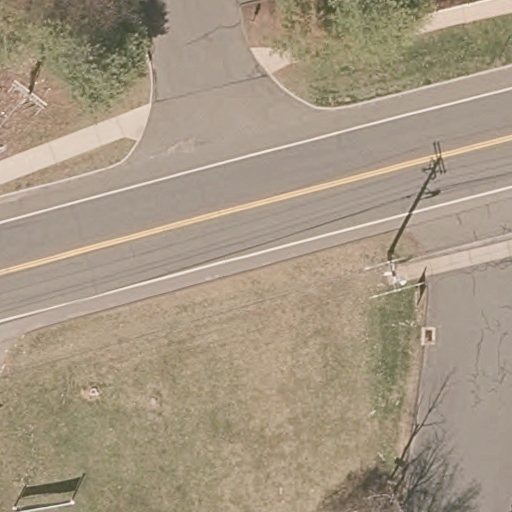DT: (363, 252, 425, 301)
